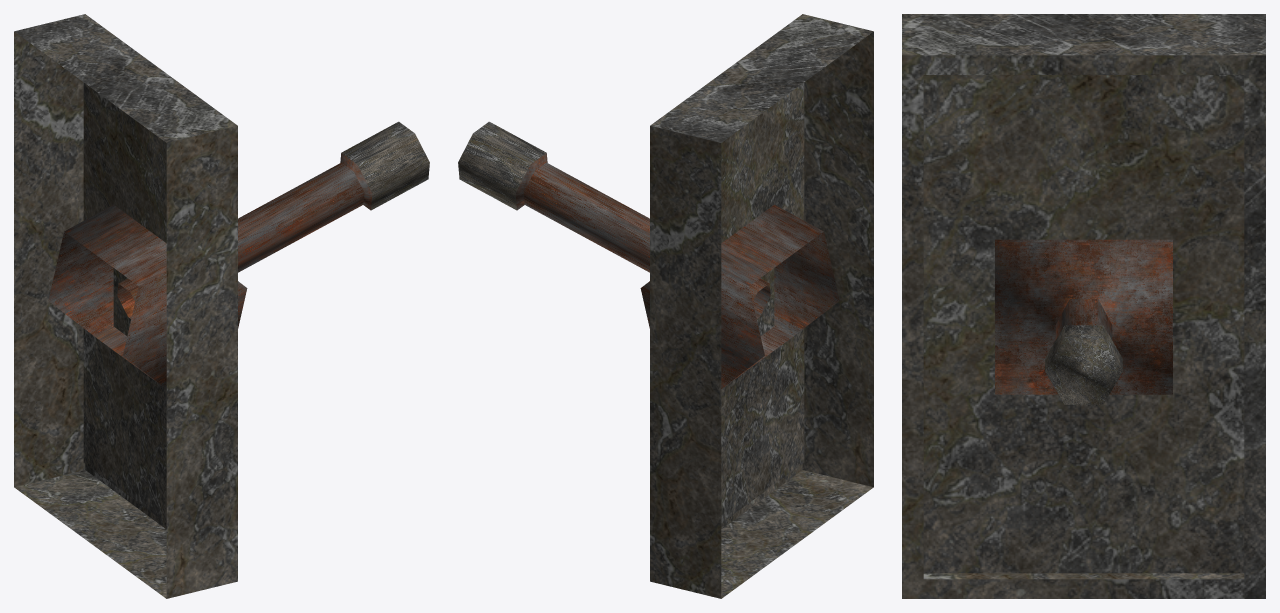
File: lever_anim7.obj
The picture shows the model from 3 angles, left to right: view 1: azimuth 30°, elevation 25°; view 2: azimuth 150°, elevation 25°; view 3: azimuth 270°, elevation 25°; orthographic projection. The views are drawn at different scales.
Visible parts, largest first — view 1: Cube, Cylinder; view 2: Cube, Cylinder; view 3: Cube, Cylinder.
Part boxes in pixels (bbox=[...]): Cube: bbox=[14, 14, 237, 598]; Cylinder: bbox=[48, 121, 429, 388]; Cube: bbox=[650, 14, 873, 598]; Cylinder: bbox=[458, 121, 839, 388]; Cube: bbox=[902, 14, 1265, 598]; Cylinder: bbox=[995, 239, 1172, 404].
Bounding box in the file's own units: 1.54 × 2 × 1.21.
Materials: 2 (2 with a texture image).
